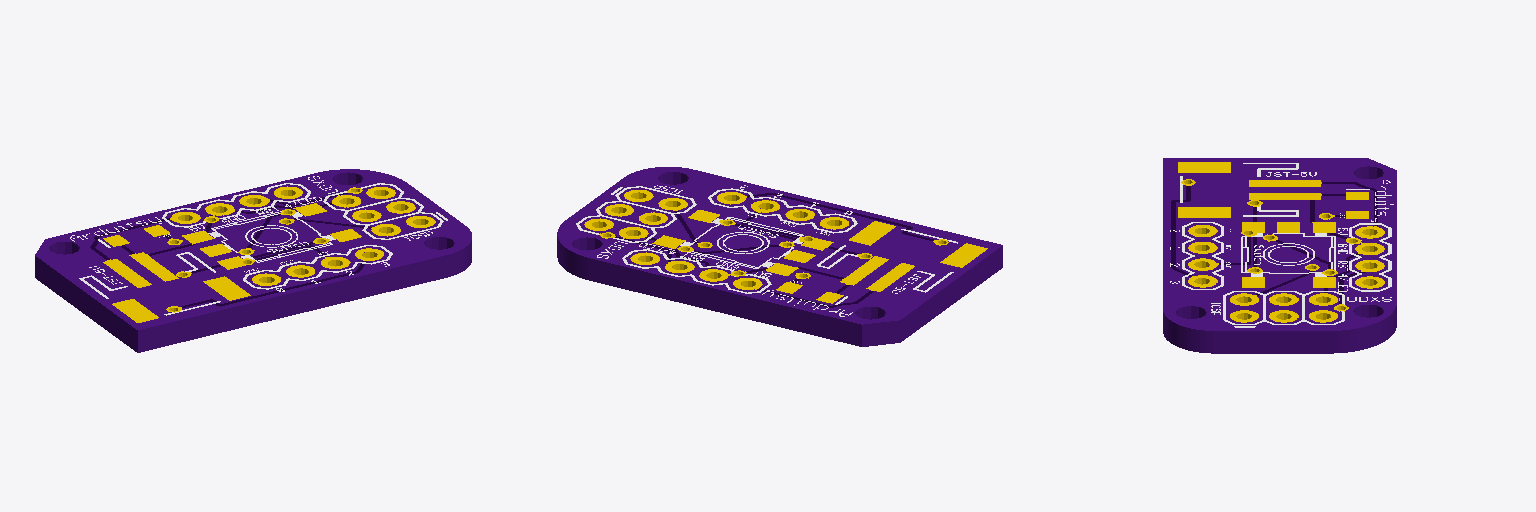
3 views of the same model, side by side, from view 1: azimuth 30°, elevation 25°; view 2: azimuth 150°, elevation 25°; view 3: azimuth 270°, elevation 25° (orthographic).
Parts seen in each view (by area): view 1: Mesh1 pcbgroup Model; view 2: Mesh1 pcbgroup Model; view 3: Mesh1 pcbgroup Model.
Boxes of the visible parts, x1,y1,x2,y2 form: Mesh1 pcbgroup Model: [35, 169, 471, 352]; Mesh1 pcbgroup Model: [557, 167, 1002, 346]; Mesh1 pcbgroup Model: [1163, 158, 1396, 353].
Size of the model in its own units: 26.2 by 1.6 by 15.
5 materials, 1 textured.